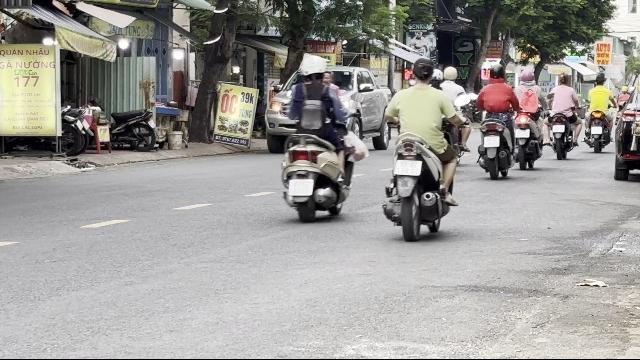helmet: (298, 54, 328, 82)
licenseplate: (288, 178, 312, 194), (394, 160, 420, 174)
motorcyclist: (274, 52, 366, 222), (380, 56, 464, 238)
nohelmet: (296, 54, 328, 82), (410, 56, 434, 84), (318, 71, 332, 83)
